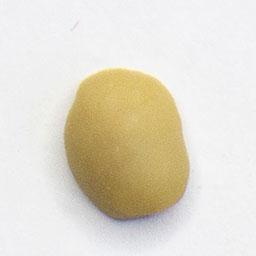defect: (57, 59, 198, 227)
